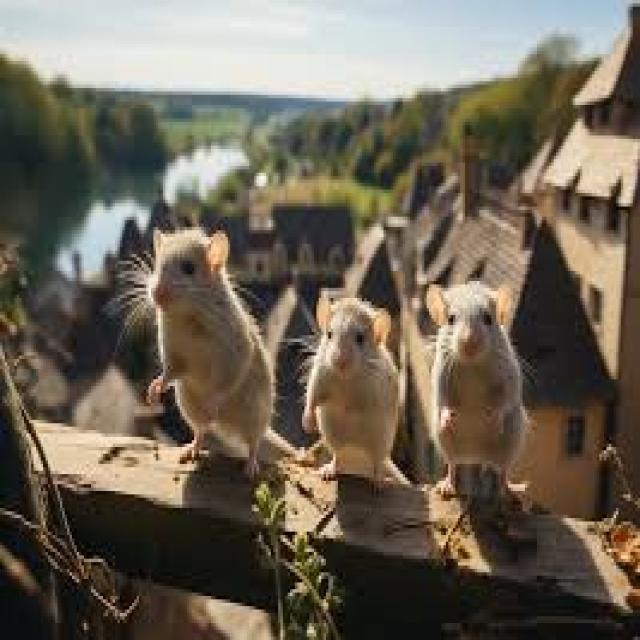Rat: (84, 186, 572, 551), (119, 206, 281, 480), (411, 248, 546, 501), (318, 284, 394, 487)
